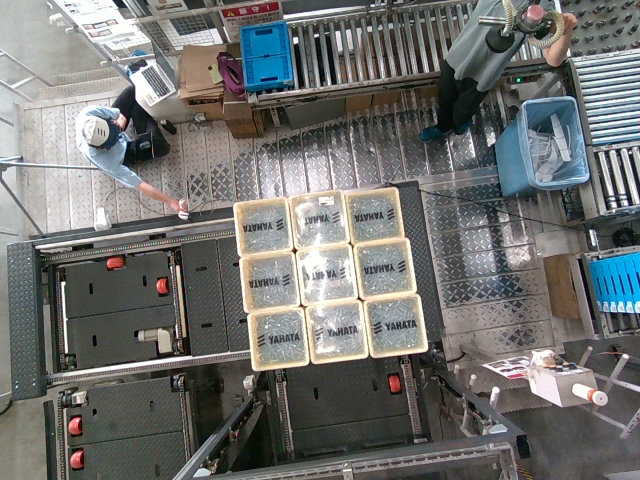box: (232, 200, 291, 258), (289, 192, 348, 250), (346, 188, 405, 246), (356, 239, 415, 297), (297, 246, 356, 304), (238, 251, 297, 309), (246, 309, 305, 367), (307, 303, 366, 361), (366, 297, 425, 355)
